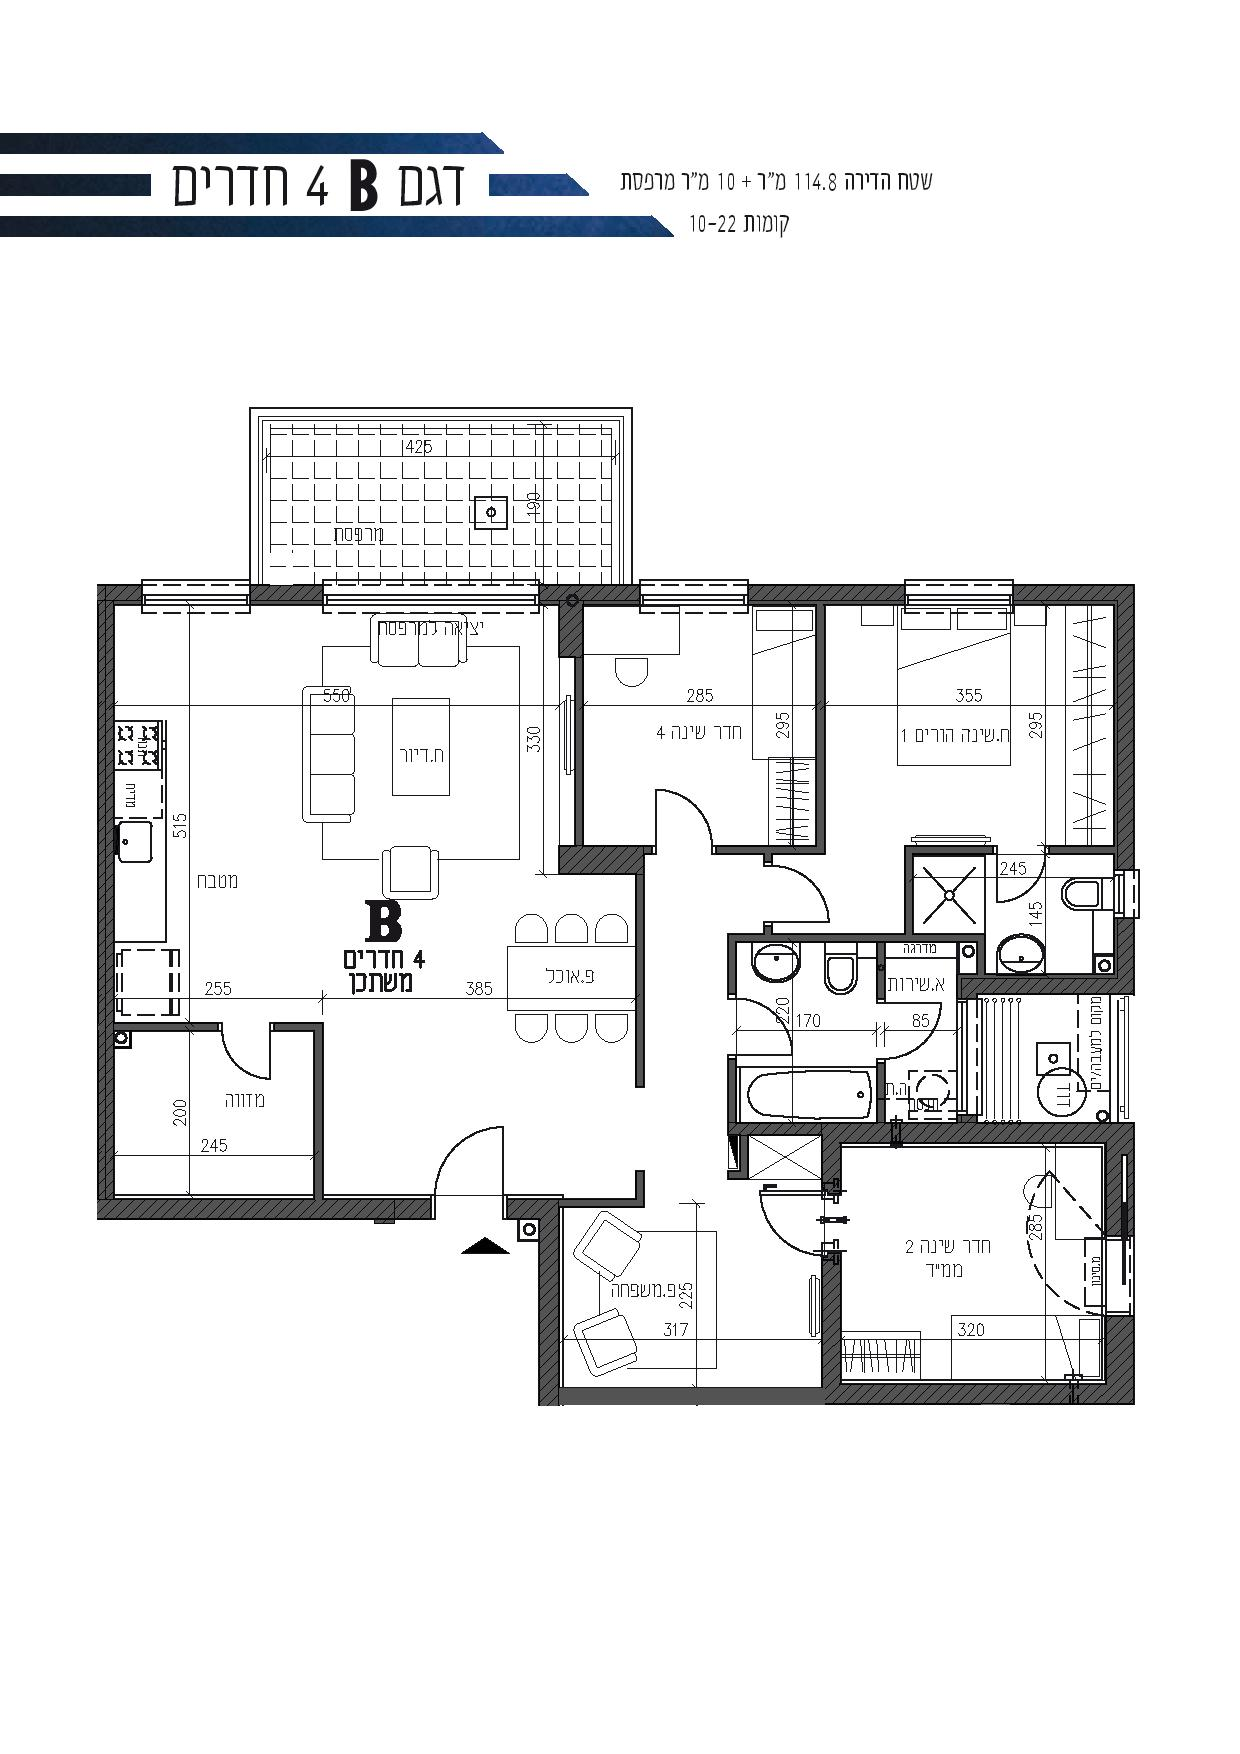door: (424, 1117, 513, 1190), (756, 1184, 819, 1260), (645, 781, 717, 845), (776, 862, 847, 926), (887, 994, 951, 1062), (741, 992, 805, 1059), (213, 1031, 280, 1084), (988, 858, 1051, 913)
md: (38, 336, 1202, 1455)
rd: (9, 82, 933, 285)
room: (821, 1123, 1134, 1402), (815, 586, 1133, 854), (572, 582, 825, 854), (538, 1198, 845, 1406)
wall: (97, 584, 115, 1219), (98, 1198, 431, 1219), (823, 1382, 1135, 1402), (1114, 582, 1134, 870), (902, 1125, 1133, 1146)
window: (321, 578, 539, 615), (639, 580, 749, 615), (905, 580, 1015, 615), (144, 578, 250, 613), (955, 997, 984, 1114), (1113, 870, 1139, 918)
